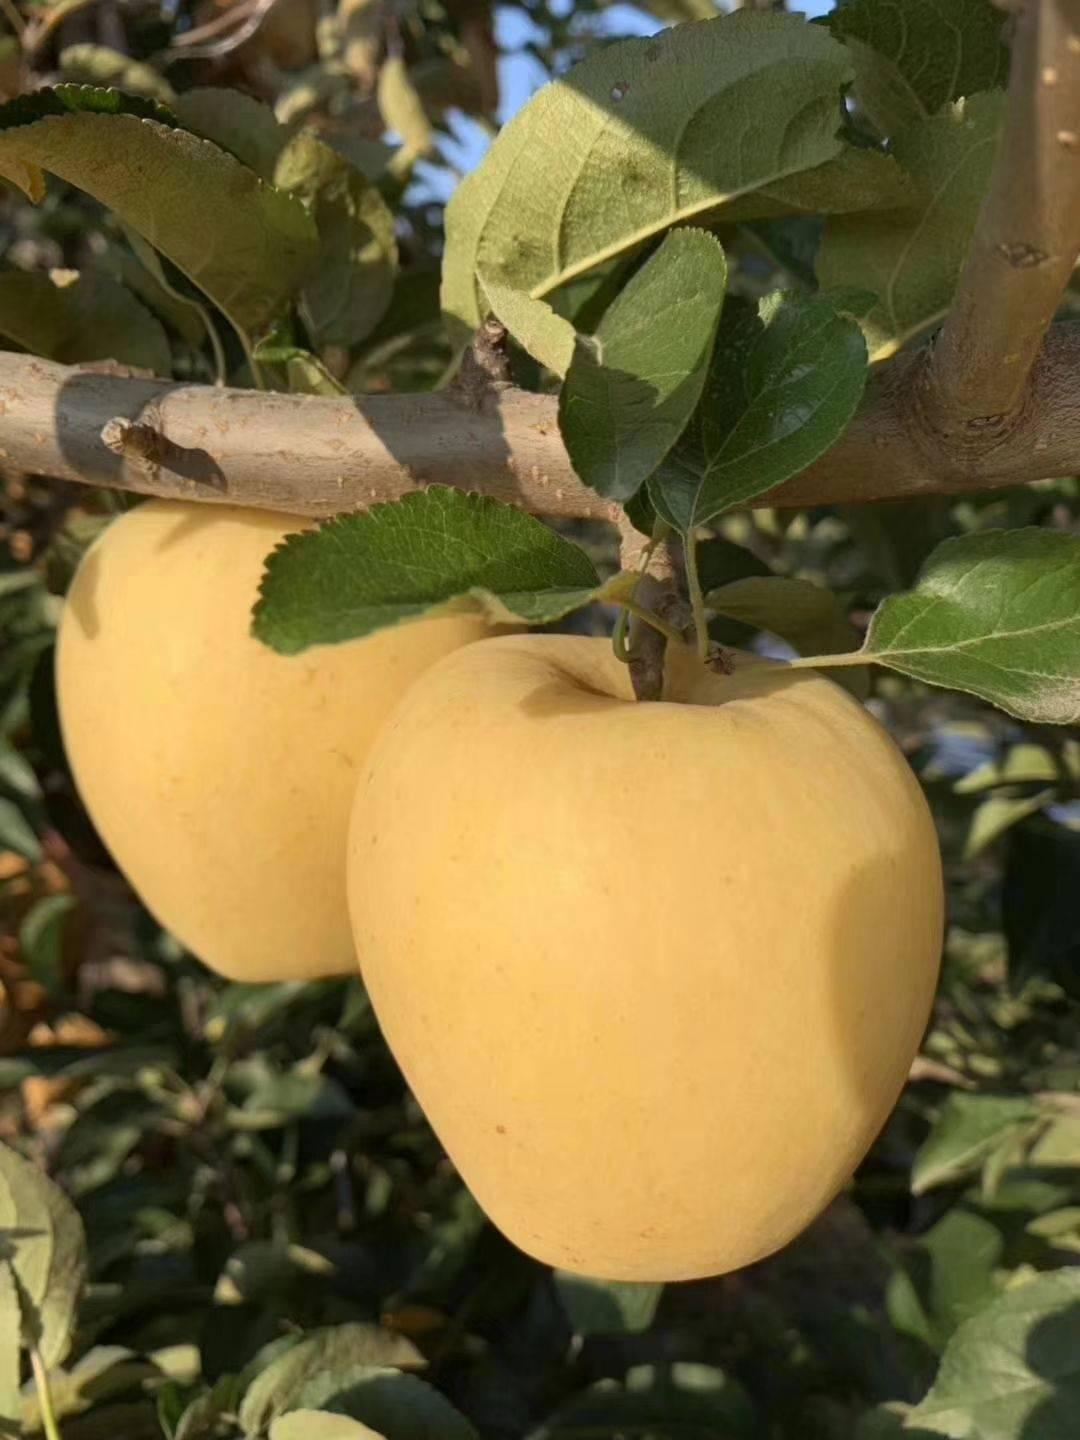apple: (341, 617, 952, 1288), (52, 495, 540, 981)
